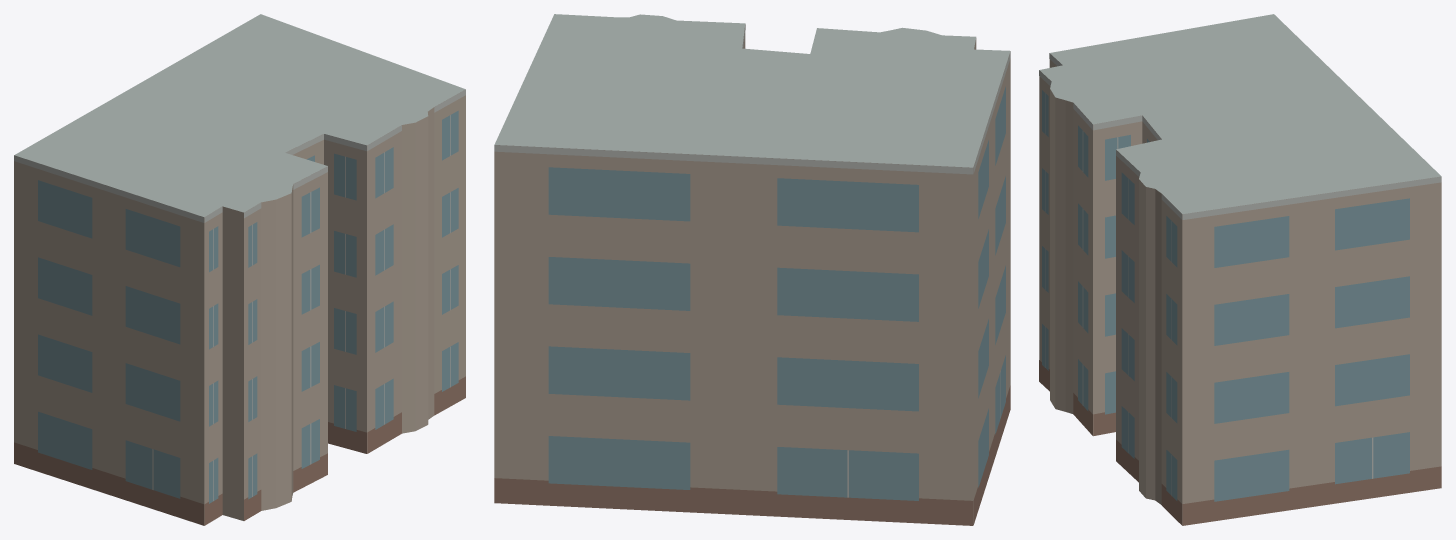
File: survey-upis-32850615.glb
The picture shows the model from 3 angles, left to right: view 1: azimuth 30°, elevation 25°; view 2: azimuth 150°, elevation 25°; view 3: azimuth 270°, elevation 25°; orthographic projection. The views are drawn at different scales.
Visible parts, largest first — view 1: survey-upis-32850615.tmp; view 2: survey-upis-32850615.tmp; view 3: survey-upis-32850615.tmp.
Boxes of the visible parts, bbox=[...] form: survey-upis-32850615.tmp: bbox=[14, 14, 465, 525]; survey-upis-32850615.tmp: bbox=[494, 14, 1010, 525]; survey-upis-32850615.tmp: bbox=[1039, 14, 1441, 525].
Bounding box in the file's own units: 17.65 × 12.8 × 14.99.
